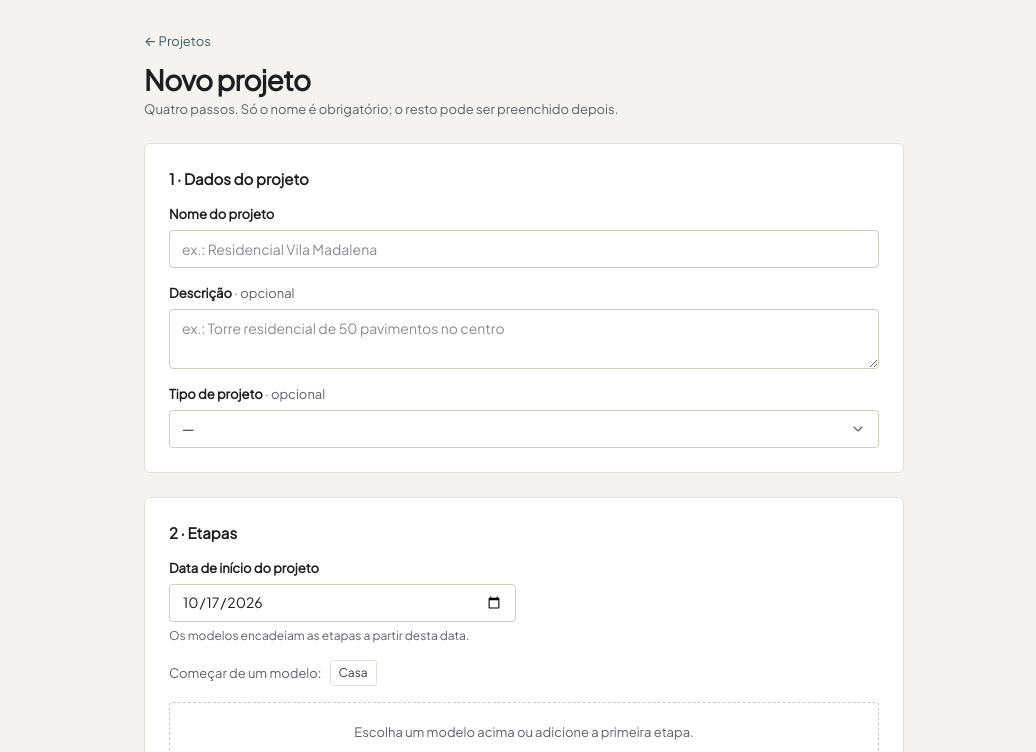
Test: Phase 3e › Novo projeto › chains a template from the start date and creates project, stages and team
Type "Casa Jardim Botânico" into the field labelled "Nome do projeto" at [524, 249], box [169,230,879,268]
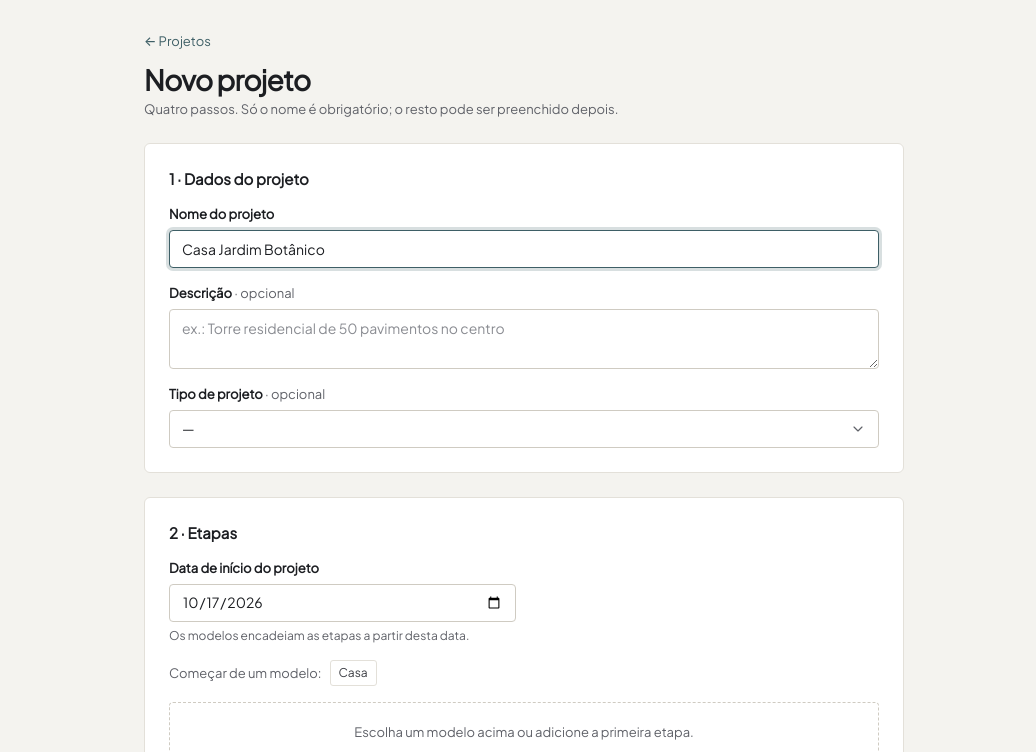
Type "2026-03-01" into the date field labelled "Data de início do projeto" at [342, 603], box [169,584,516,622]
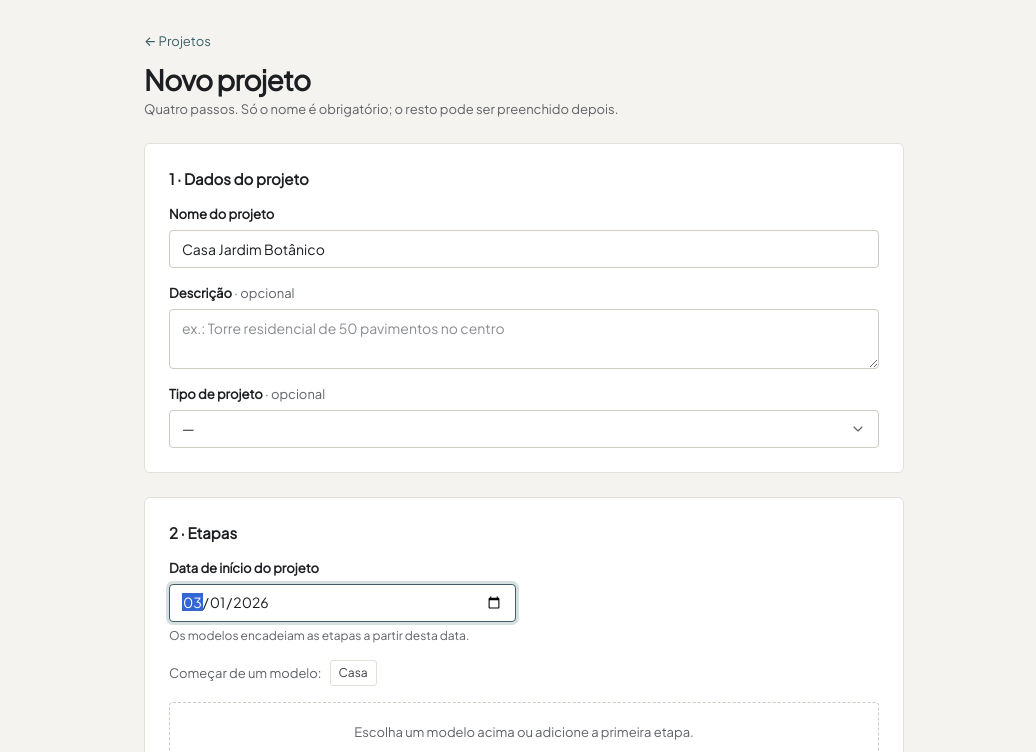
Click the button "Casa" at [353, 674], box [330,660,377,686]
(page scrolled)
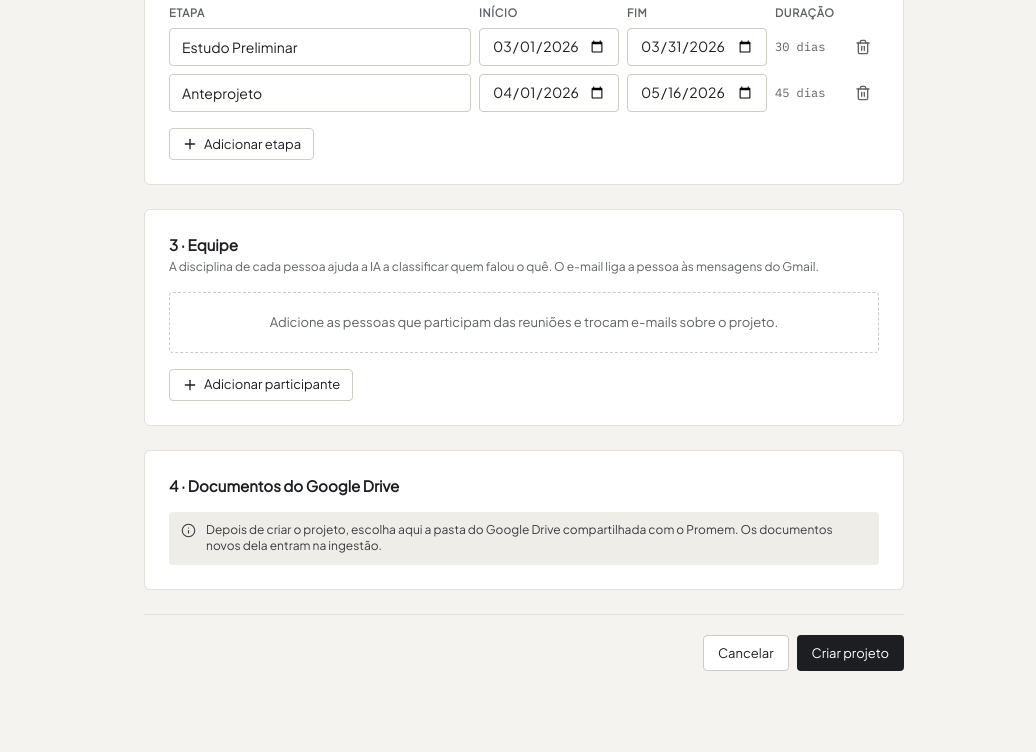
Now the field showing "Anteprojeto" is shown, box [169,74,471,112]
Now the text "30 dias" is shown, box [775,38,825,54]
Click the button "Adicionar participante" at [261, 385], box [169,369,353,401]
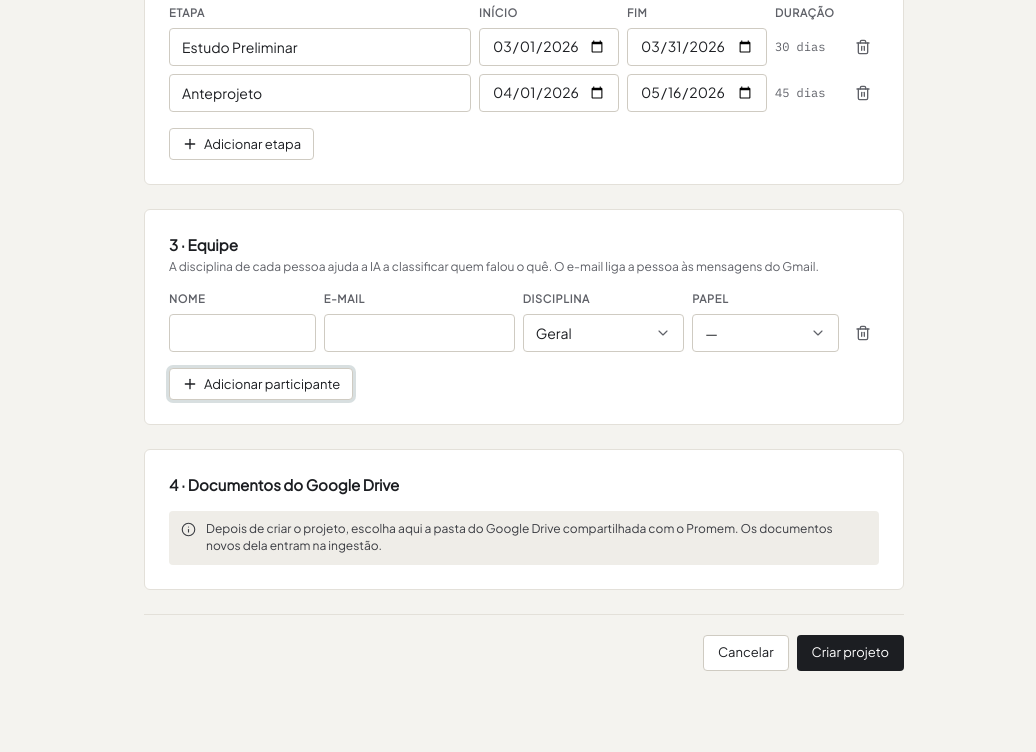
Type "Lucia" into the field named "Nome da pessoa 1" at [242, 333], box [169,314,316,352]
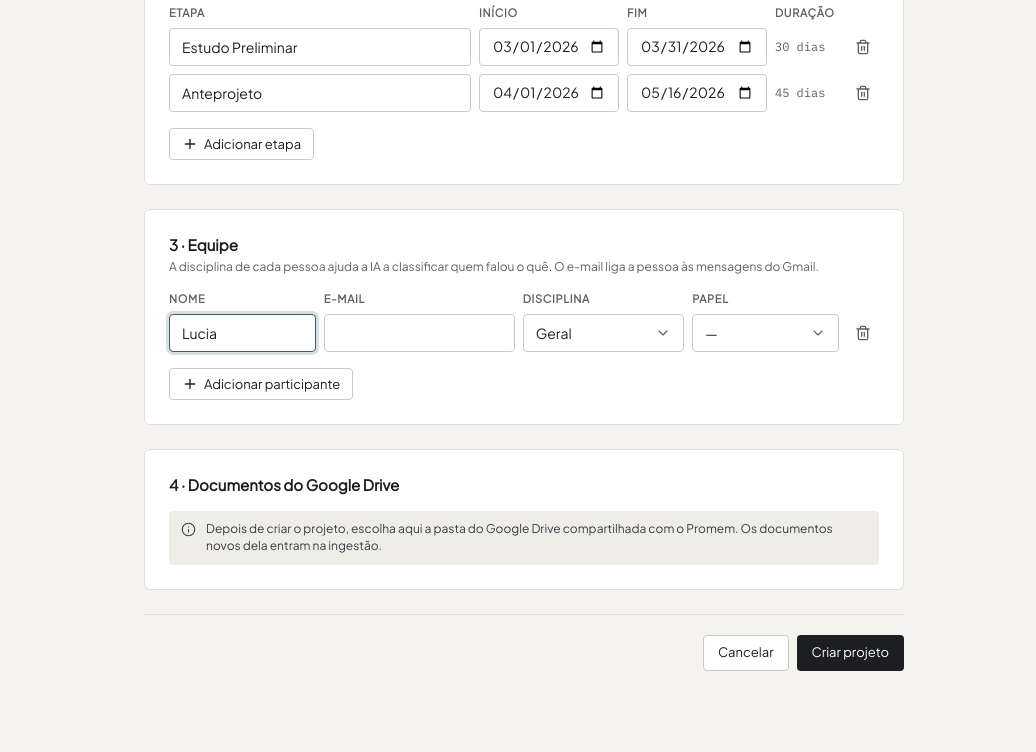
Click the button "Criar projeto" at [850, 653], box [797,635,904,671]
(page scrolled)
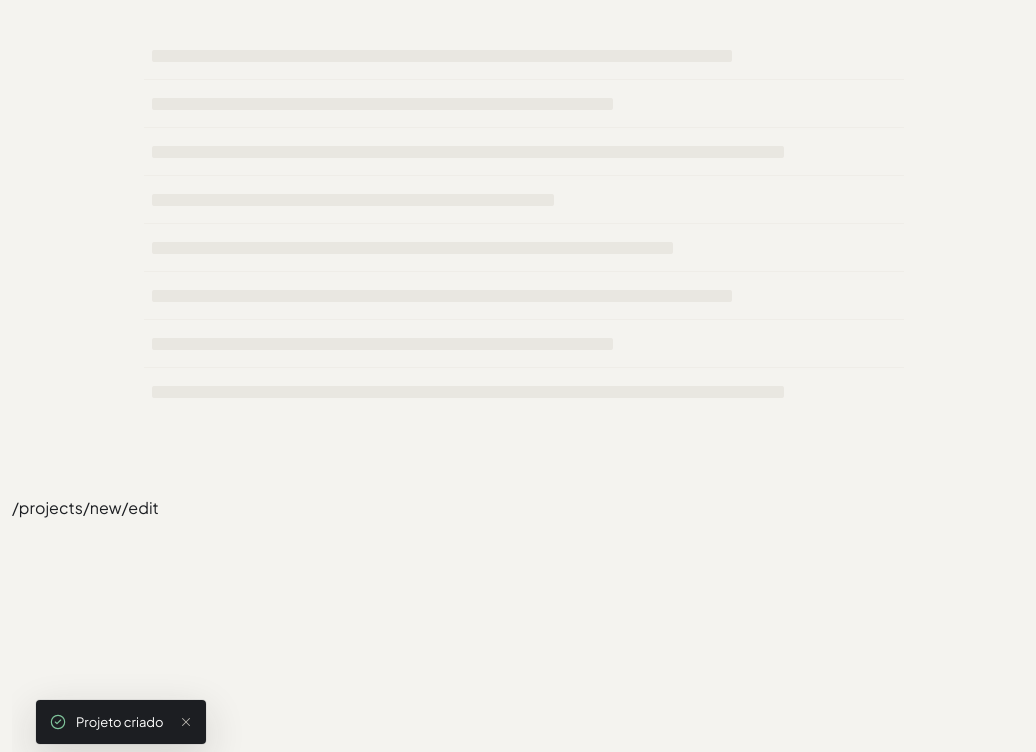
Now the text with test id "where" reads "/projects/new/edit", box [12,497,159,518]
